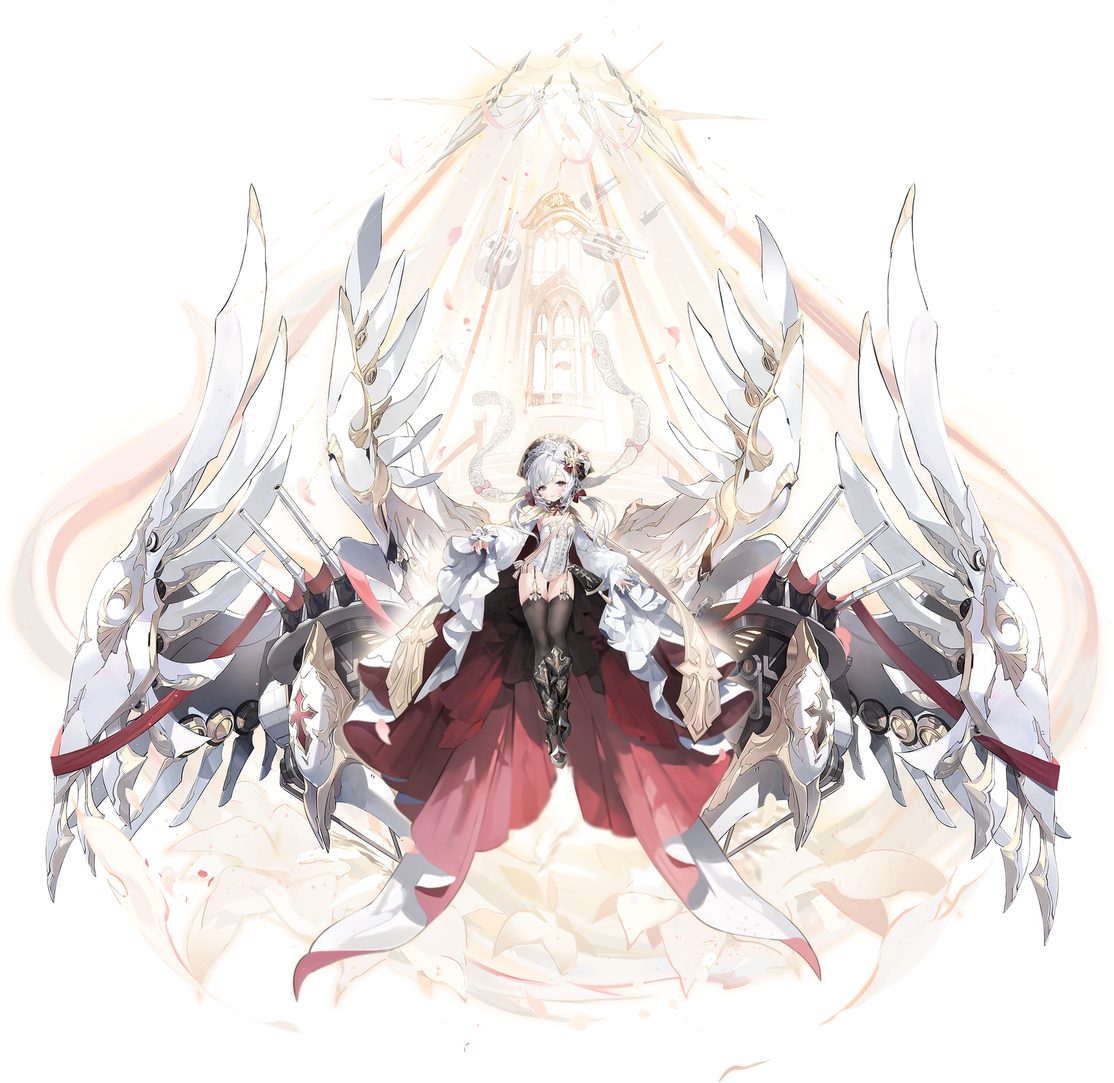person: (310, 392, 724, 1072)
